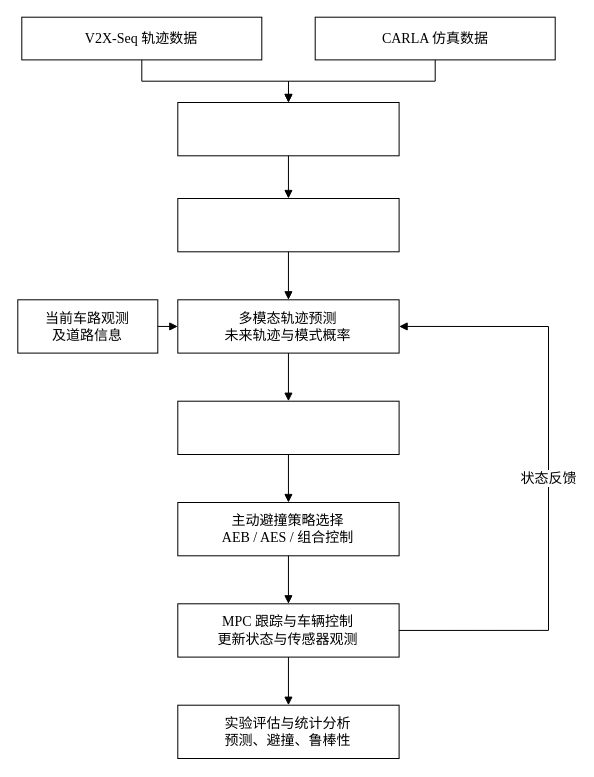
This 594x777 diagram has some shape labels left out. Here are the shapes that lost their labels. From the top down, the centre of each, then its label:
point (288, 129): 数据预处理与样本构建 时空对齐、分组划分
point (288, 225): RC-STGT 模型训练 验证与参数冻结
point (288, 427): 候选轨迹与风险评估 车体碰撞、道路约束
